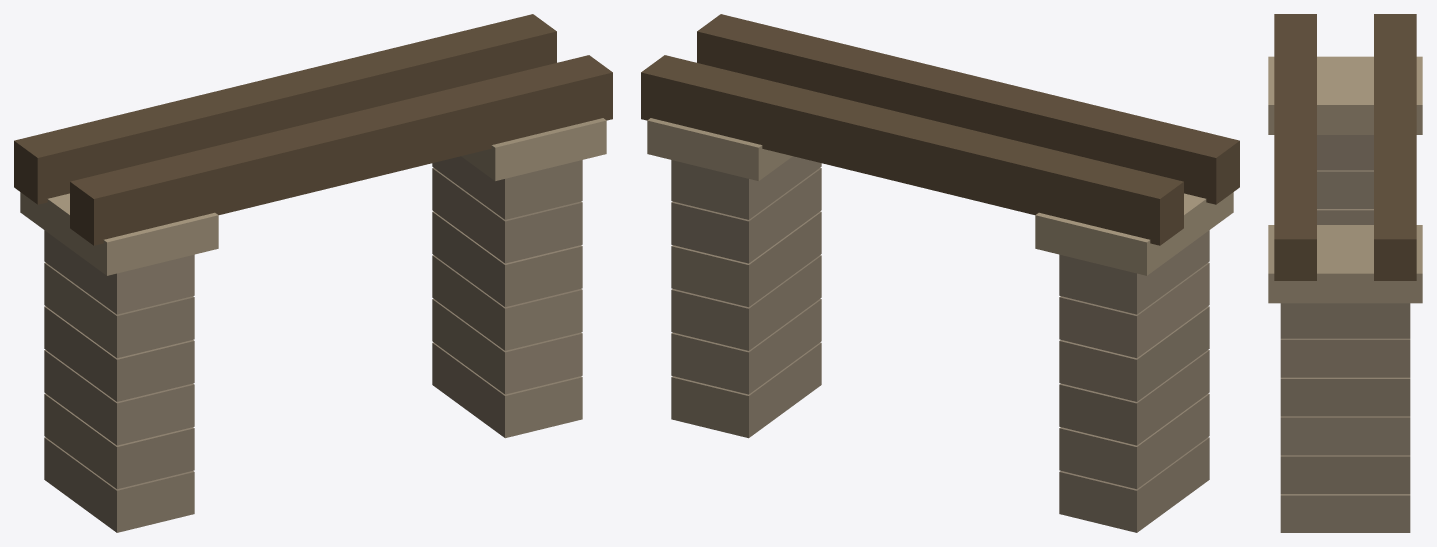
Rendered from gate.glb.
The picture shows the model from 3 angles, left to right: view 1: azimuth 30°, elevation 25°; view 2: azimuth 150°, elevation 25°; view 3: azimuth 270°, elevation 25°; orthographic projection. The views are drawn at different scales.
Parts seen in each view (by area): view 1: gate; view 2: gate; view 3: gate.
Part boxes in pixels (x1,y1,x2,y2): gate: (14, 14, 612, 532); gate: (641, 14, 1239, 532); gate: (1268, 14, 1422, 532).
Bounding box in the file's own units: 1.07 × 0.678 × 0.31.
